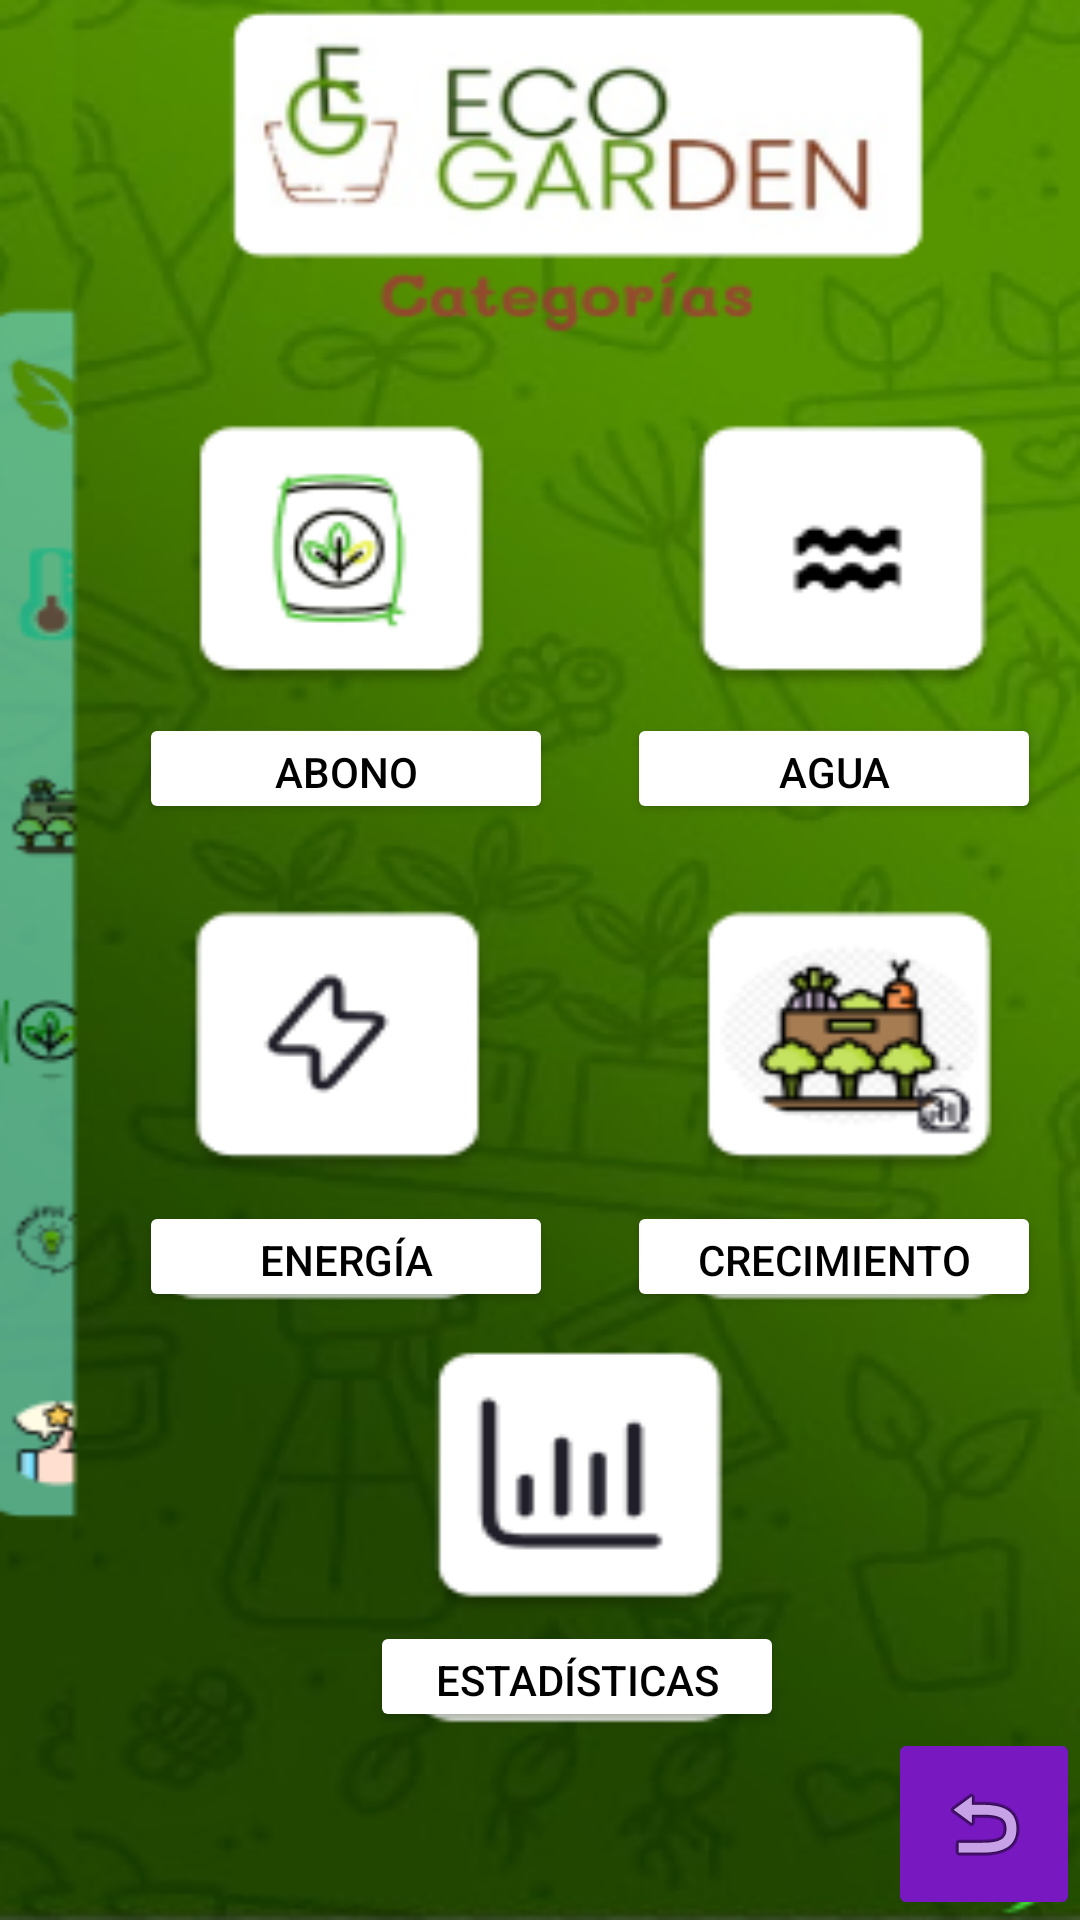

Icons on this 1080*1920 Android screen, each with its box as (x1, y1, x2, y2):
Regresar: (900, 1746, 1068, 1913)
